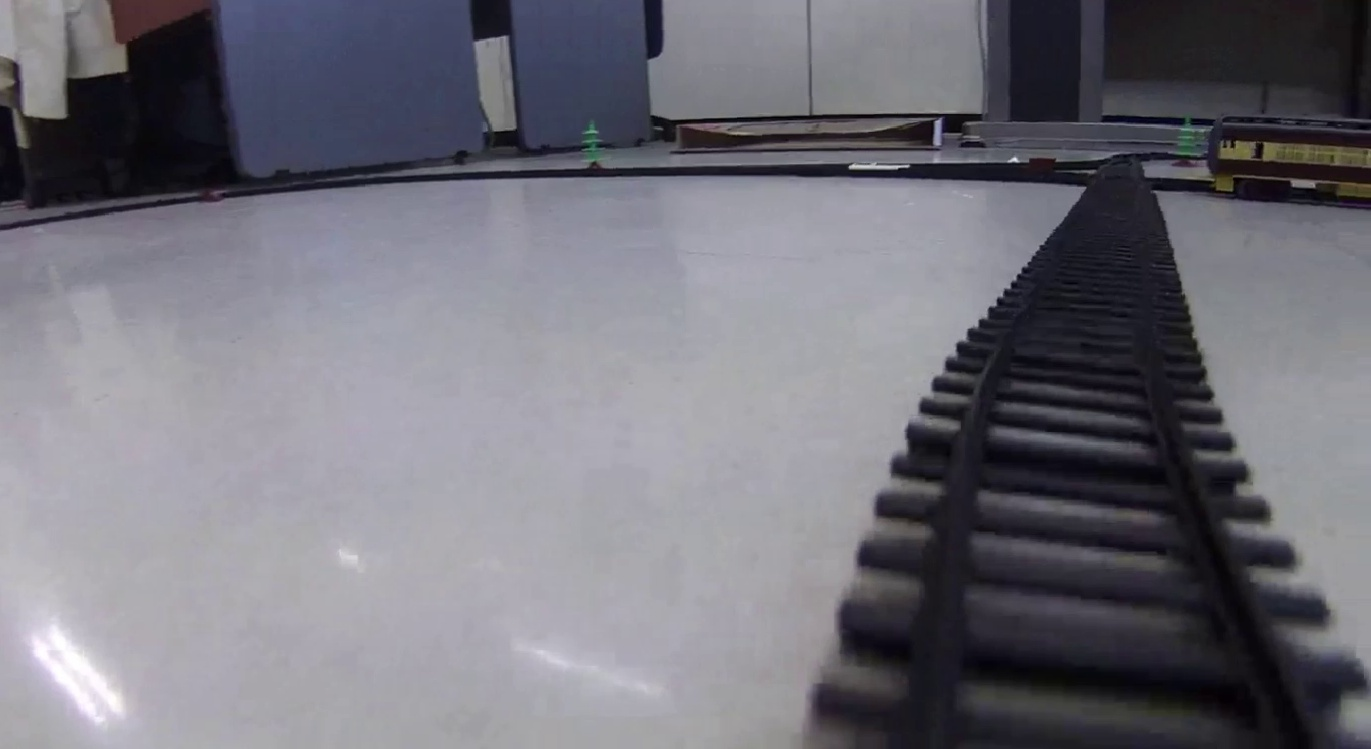tree: (581, 120, 610, 168)
